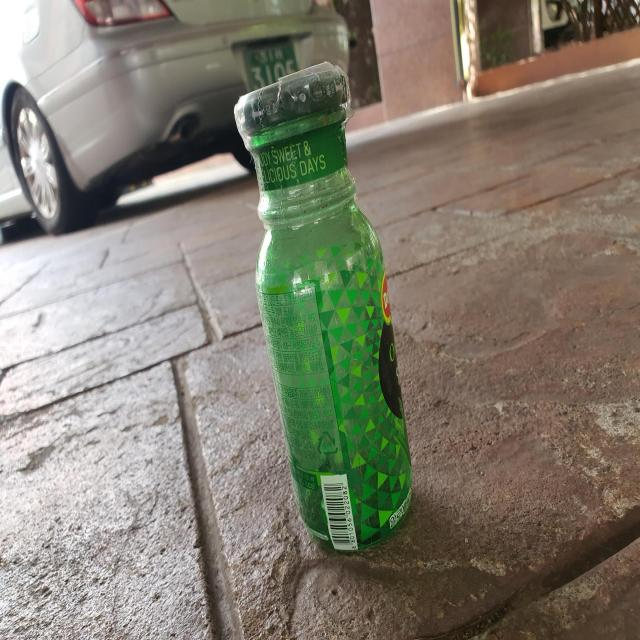glass: (234, 61, 413, 552)
